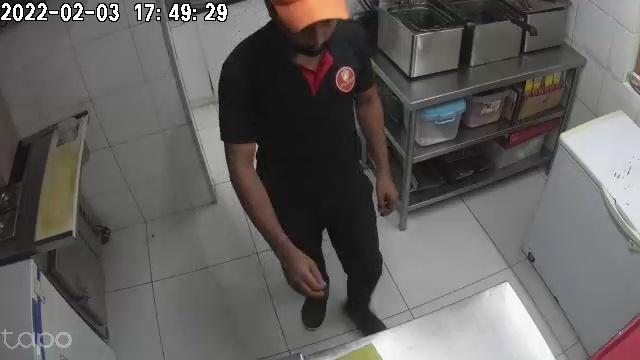no_gloves: (274, 240, 325, 298), (376, 164, 398, 218)
